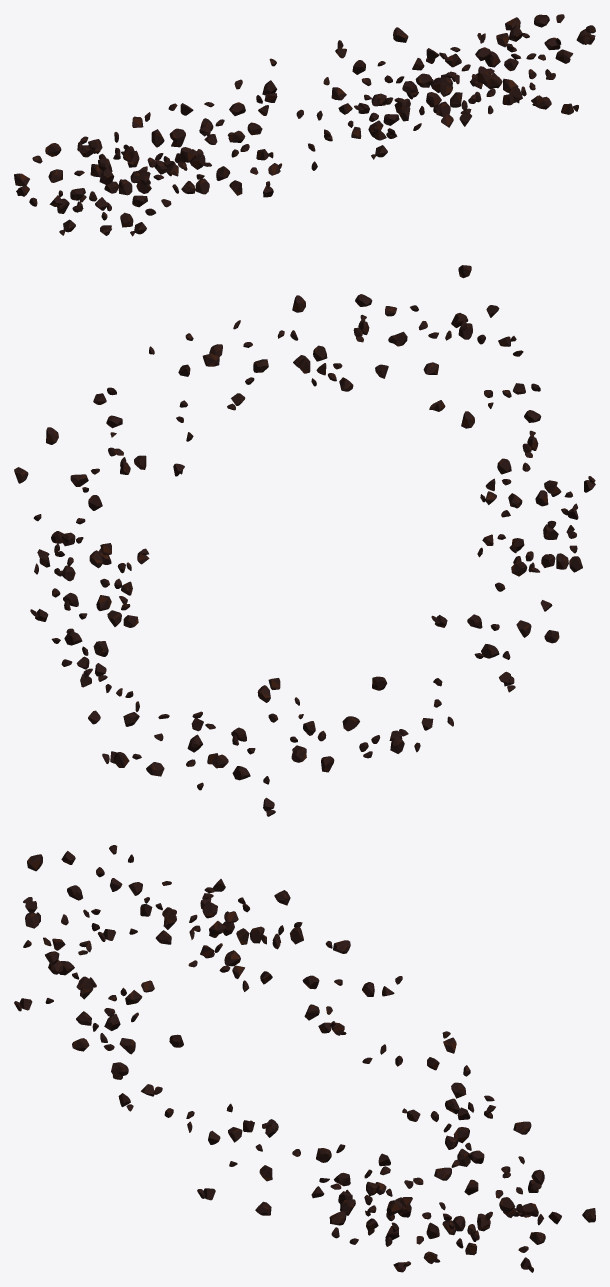
The model's file is Asteroids_RING.obj.
3 views of the same model, one above another, from view 1: azimuth 30°, elevation 25°; view 2: azimuth 150°, elevation 25°; view 3: azimuth 270°, elevation 25° (orthographic). The views are drawn at different scales.
Parts seen in each view (by area): view 1: Asteroid_3.061_Icosphere_cell.229; view 2: Asteroid_3.061_Icosphere_cell.229; view 3: Asteroid_3.061_Icosphere_cell.229.
Boxes of the visible parts, box(x1,y1,x2,y2) form: Asteroid_3.061_Icosphere_cell.229: box(14, 14, 595, 236); Asteroid_3.061_Icosphere_cell.229: box(14, 265, 595, 816); Asteroid_3.061_Icosphere_cell.229: box(14, 845, 595, 1272).
Size of the model in its own units: 91.13 by 59.03 by 81.75.
